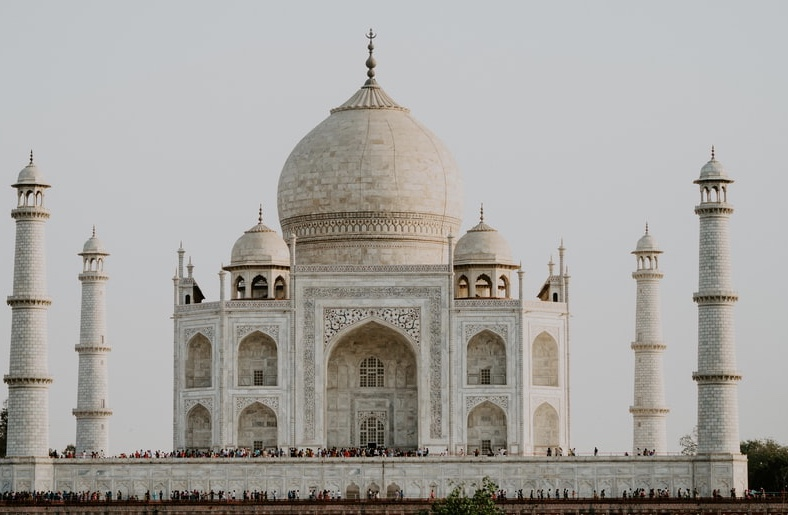Mosque: (8, 27, 765, 477)
